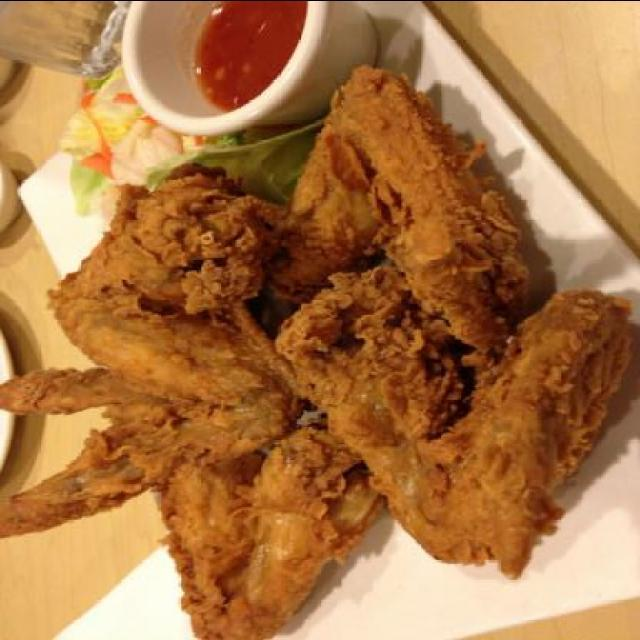Deep fried chicken wing: (61, 73, 619, 616)
